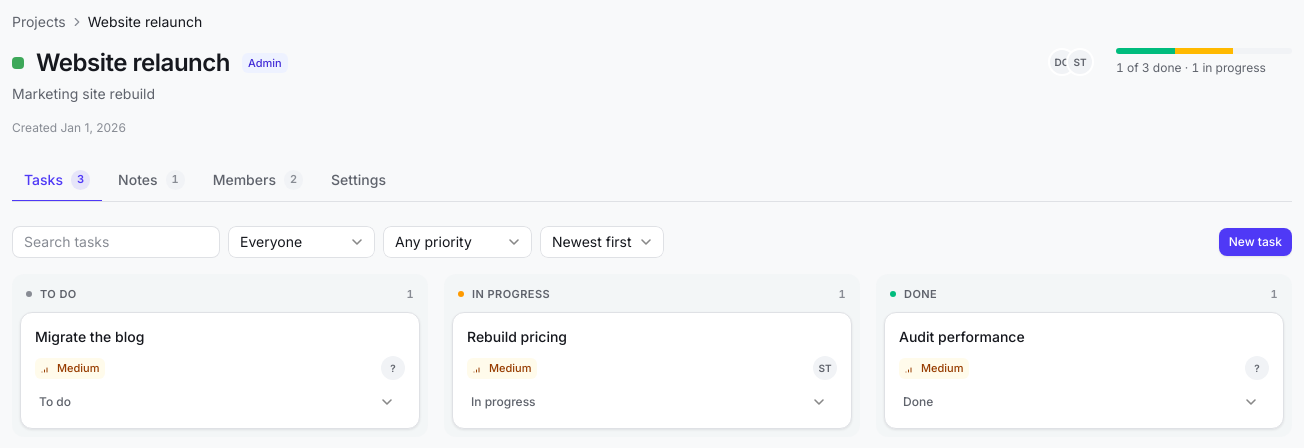
Test: ProjectDetail › finds unassigned work, which is what goes unnoticed
Expected: the button "Migrate the blog" is shown, [35,327,405,346]
Select "Unassigned" in the dropdown named "Filter by assignee" at [302, 242], box [228,226,375,258]
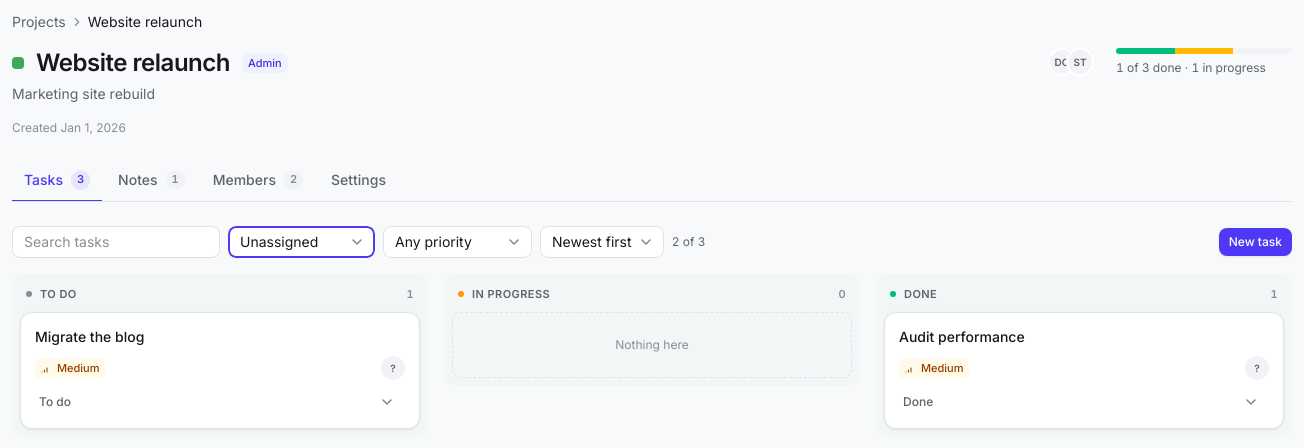
Expected: the button "Migrate the blog" is shown, [35,327,405,346]
Now the button "Rebuild pricing" is gone
